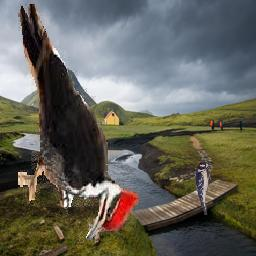Woodpecker: (19, 5, 140, 246), (194, 161, 212, 216)
